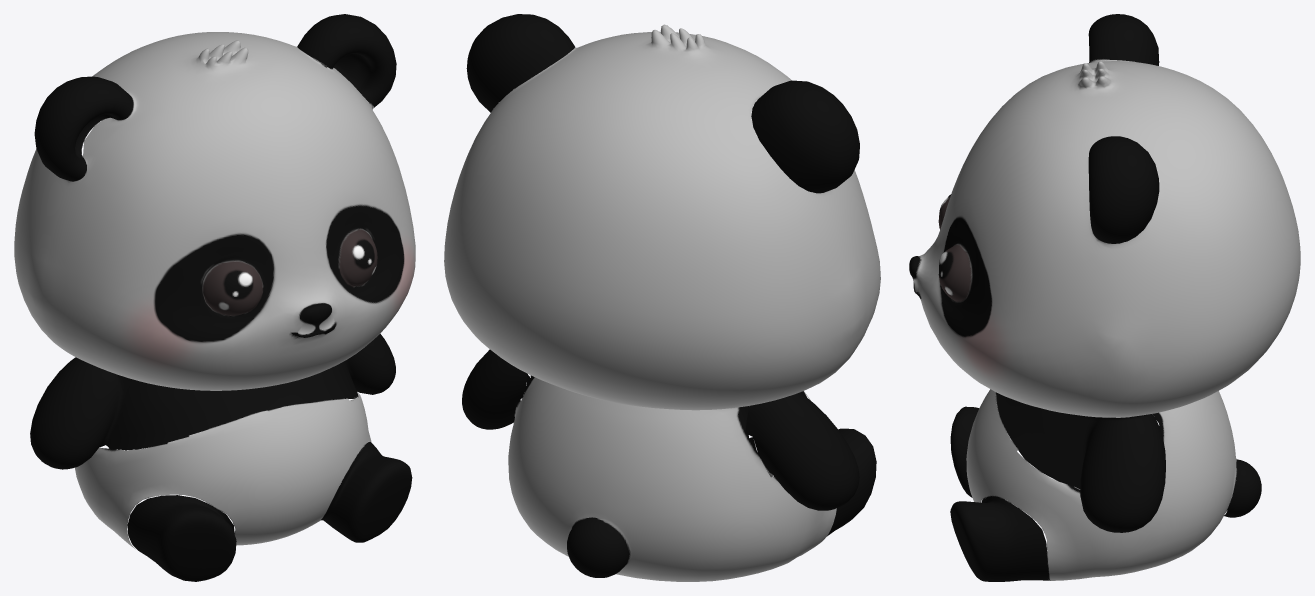
The picture shows the model from 3 angles, left to right: view 1: azimuth 30°, elevation 25°; view 2: azimuth 150°, elevation 25°; view 3: azimuth 270°, elevation 25°; orthographic projection. The views are drawn at different scales.
Visible parts, largest first — view 1: Retopo2_group2FBXASC124polySurface9; view 2: Retopo2_group2FBXASC124polySurface9; view 3: Retopo2_group2FBXASC124polySurface9.
Boxes of the visible parts, bbox=[...] form: Retopo2_group2FBXASC124polySurface9: bbox=[14, 14, 415, 581]; Retopo2_group2FBXASC124polySurface9: bbox=[444, 14, 880, 581]; Retopo2_group2FBXASC124polySurface9: bbox=[909, 14, 1300, 581].
Size of the model in its own units: 0.4716 by 0.5964 by 0.4518.
1 material, 1 textured.
